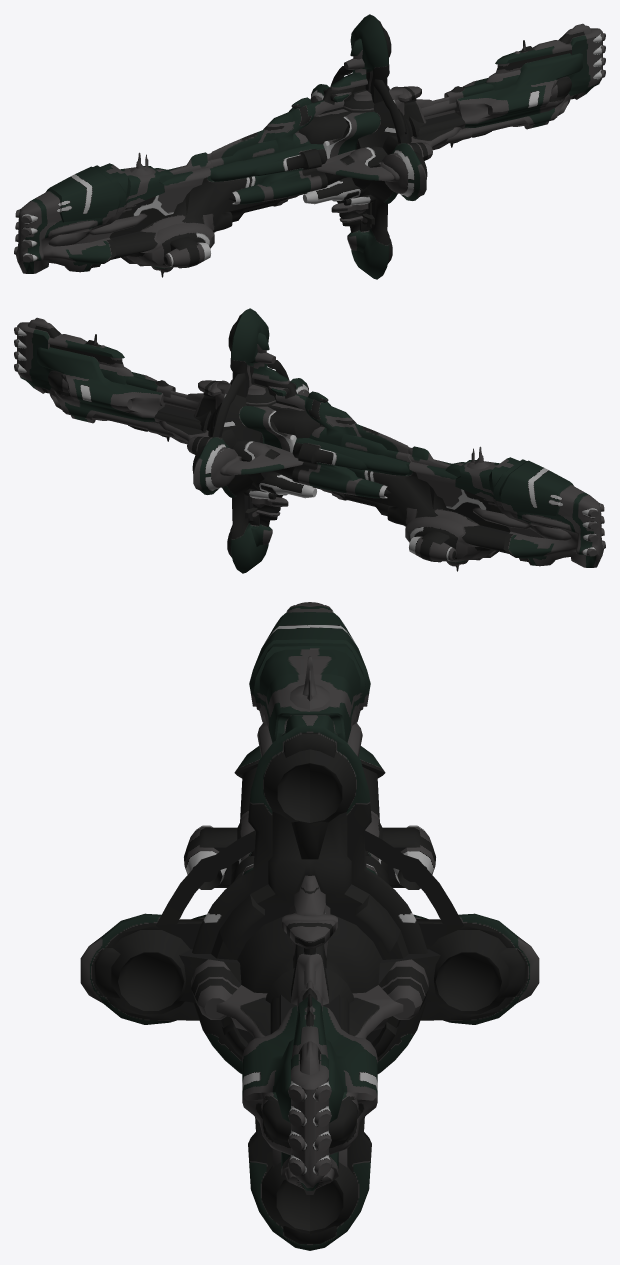
The model's file is hyperion.glb.
The picture shows the model from 3 angles, top to bottom: view 1: azimuth 30°, elevation 25°; view 2: azimuth 150°, elevation 25°; view 3: azimuth 270°, elevation 25°; orthographic projection. The views are drawn at different scales.
Parts seen in each view (by area): view 1: Hyperion; view 2: Hyperion; view 3: Hyperion.
Part boxes in pixels (x1,y1,x2,y2): Hyperion: (14, 14, 605, 279); Hyperion: (14, 308, 605, 573); Hyperion: (80, 602, 539, 1250).
Size of the model in its own units: 1495 by 641 by 507.
Materials: 1 (1 with a texture image).
